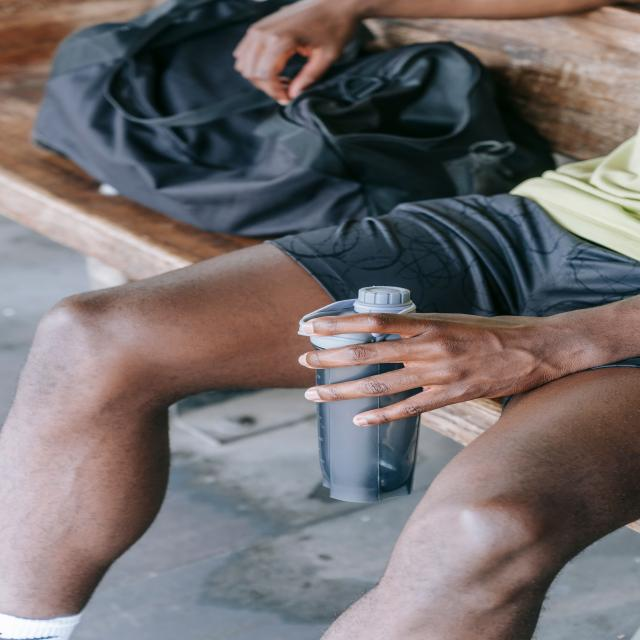Bottle: (317, 389, 422, 502)
